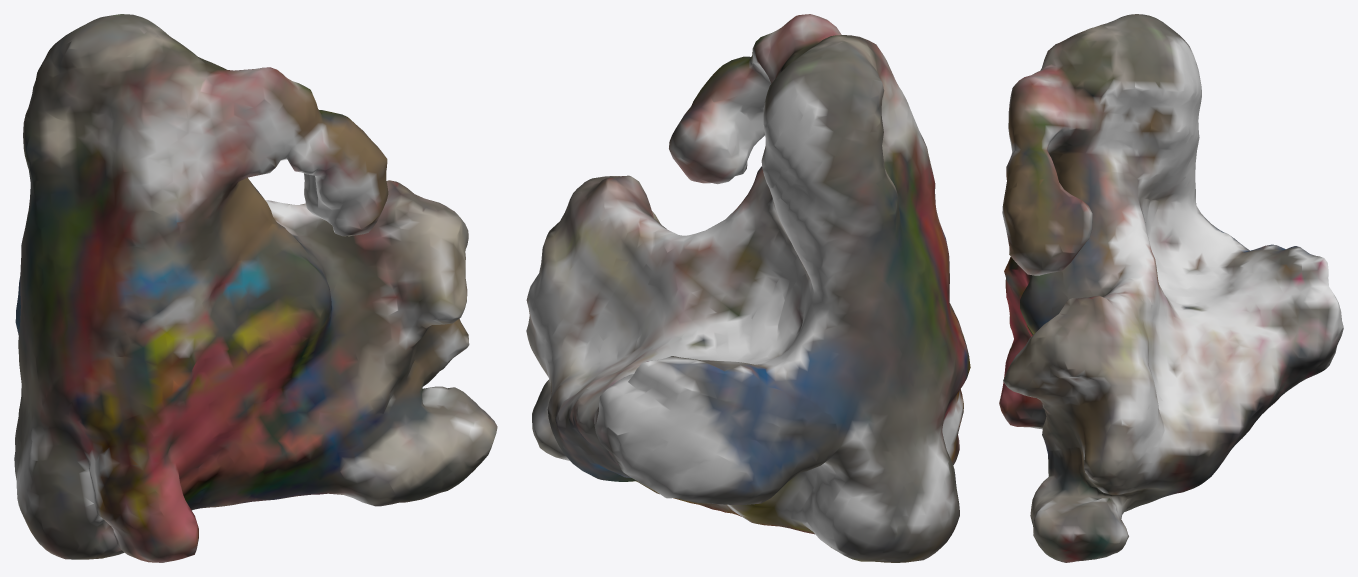
Rendered from sorting_board.glb.
3 renders of one model, left to right at view 1: azimuth 30°, elevation 25°; view 2: azimuth 150°, elevation 25°; view 3: azimuth 270°, elevation 25°, orthographic. The views are drawn at different scales.
Bounding box in the file's own units: 0.8962 × 0.9994 × 0.7299.
